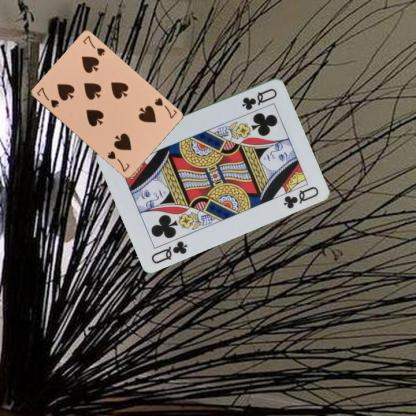7s: (34, 84, 60, 110), (151, 96, 178, 121)
Qc: (148, 237, 189, 264), (239, 85, 279, 111)
